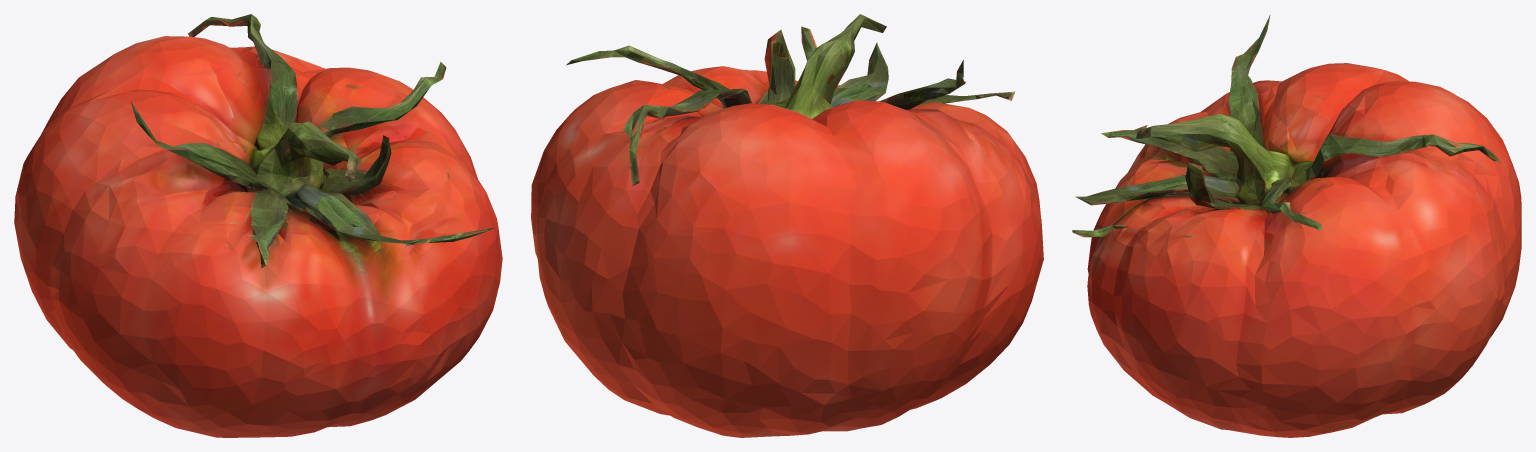
Rendered from tomato_ingredient_G_0421203843_texture.fbx.
The picture shows the model from 3 angles, left to right: view 1: azimuth 30°, elevation 25°; view 2: azimuth 150°, elevation 25°; view 3: azimuth 270°, elevation 25°; orthographic projection. The views are drawn at different scales.
Parts seen in each view (by area): view 1: temp; view 2: temp; view 3: temp.
Part boxes in pixels (bbox=[...]): temp: bbox=[14, 14, 502, 437]; temp: bbox=[531, 14, 1043, 437]; temp: bbox=[1072, 15, 1521, 437].
Size of the model in its own units: 197 by 157 by 200.
Materials: 1 (1 with a texture image).
